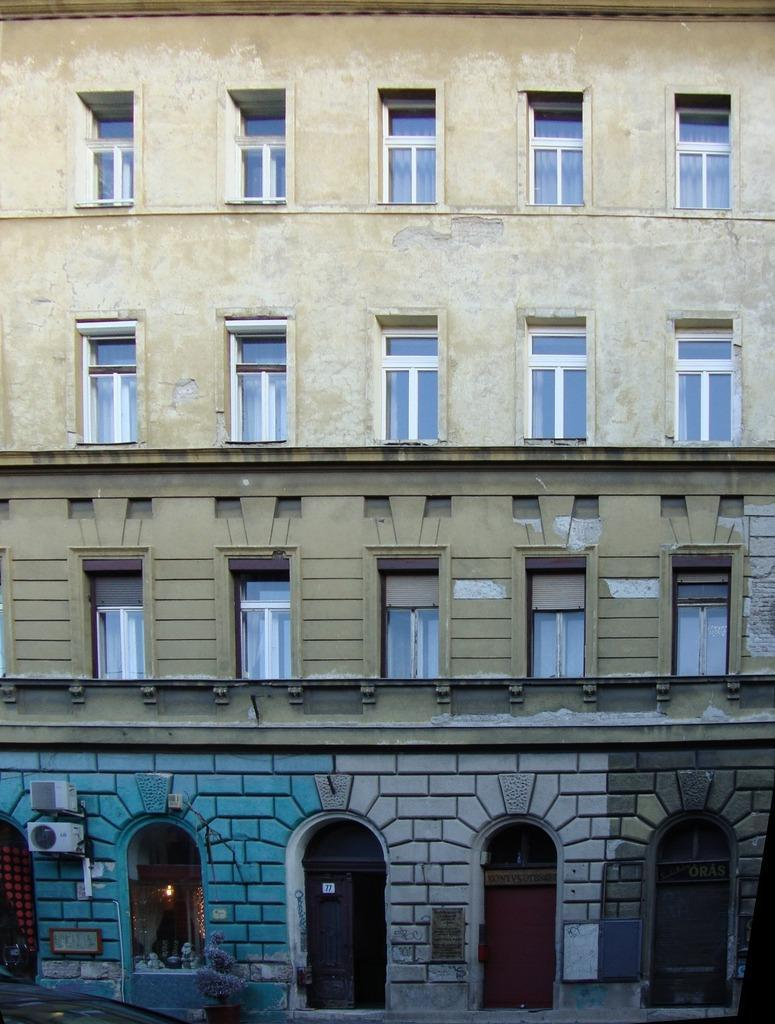window: (527, 318, 587, 444), (380, 315, 440, 441), (226, 318, 286, 444), (78, 322, 138, 448), (676, 320, 735, 447), (84, 560, 145, 681), (230, 557, 291, 678), (378, 557, 439, 678), (672, 556, 733, 677), (528, 558, 589, 678), (675, 97, 732, 213), (77, 93, 134, 208), (229, 90, 286, 205), (381, 89, 438, 204), (526, 92, 583, 207)
